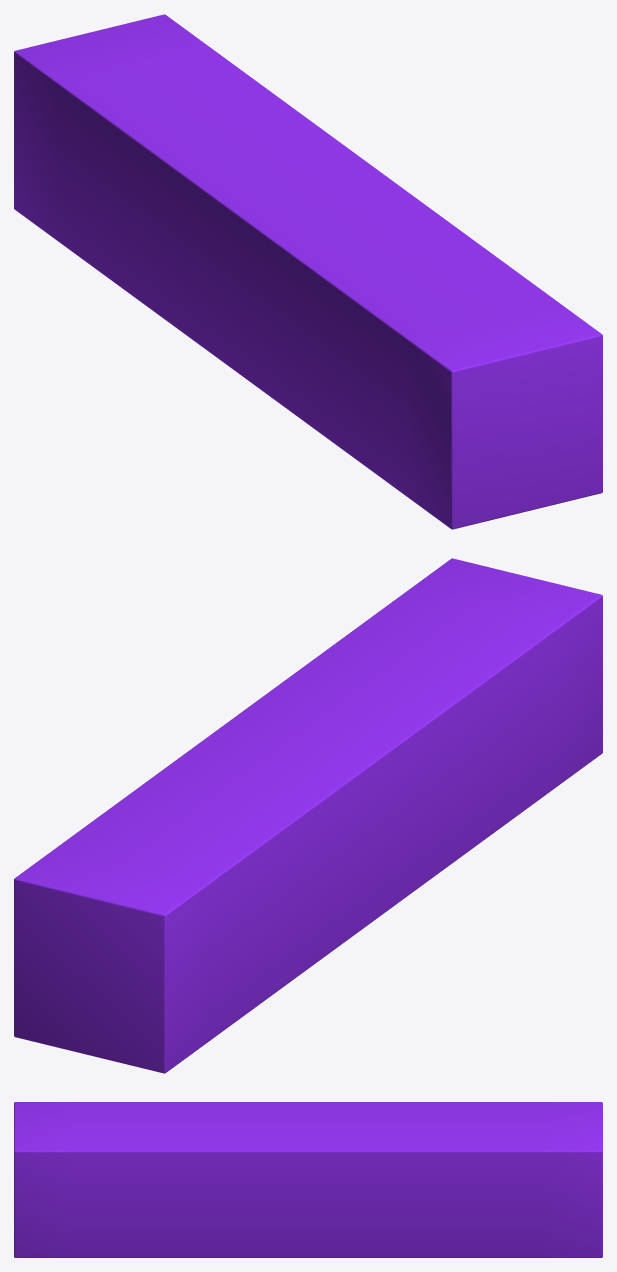
File: LoopDreams_VR_Assets_R1_PurpleBlock.fbx
3 views of the same model, one above another, from view 1: azimuth 30°, elevation 25°; view 2: azimuth 150°, elevation 25°; view 3: azimuth 270°, elevation 25° (orthographic). The views are drawn at different scales.
Parts seen in each view (by area): view 1: Purple_Block; view 2: Purple_Block; view 3: Purple_Block.
Part boxes in pixels (x1=…): Purple_Block: x1=14, y1=14, x2=602, y2=529; Purple_Block: x1=14, y1=558, x2=602, y2=1073; Purple_Block: x1=14, y1=1102, x2=602, y2=1257.
Size of the model in its own units: 100 by 100 by 500.
